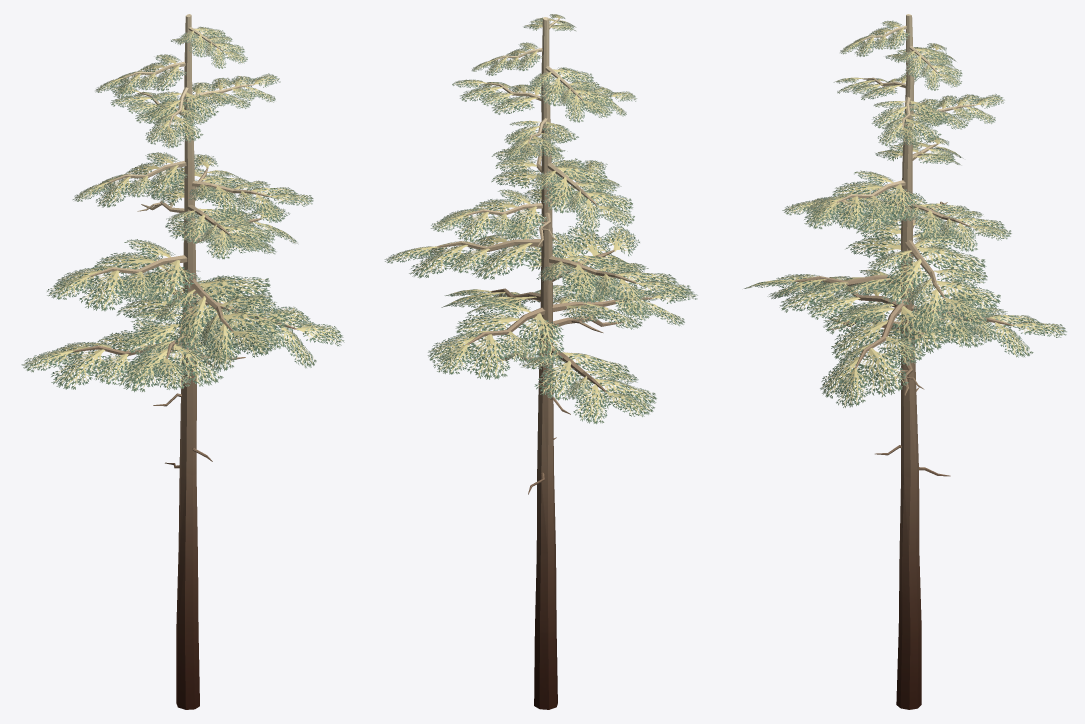
File: mountain_ash.fbx
The picture shows the model from 3 angles, left to right: view 1: azimuth 30°, elevation 25°; view 2: azimuth 150°, elevation 25°; view 3: azimuth 270°, elevation 25°; orthographic projection.
Parts seen in each view (by area): view 1: ash_leaves_LOD0, ash_trunk_LOD0; view 2: ash_leaves_LOD0, ash_trunk_LOD0; view 3: ash_leaves_LOD0, ash_trunk_LOD0.
Boxes of the visible parts, x1,y1,x2,y2 form: ash_leaves_LOD0: (21, 26, 344, 392); ash_trunk_LOD0: (73, 14, 297, 709); ash_leaves_LOD0: (384, 14, 697, 424); ash_trunk_LOD0: (437, 17, 652, 709); ash_leaves_LOD0: (744, 20, 1066, 407); ash_trunk_LOD0: (794, 14, 1013, 709).
Size of what is drawn, in the model's own units: 1268 by 2937 by 1292.
